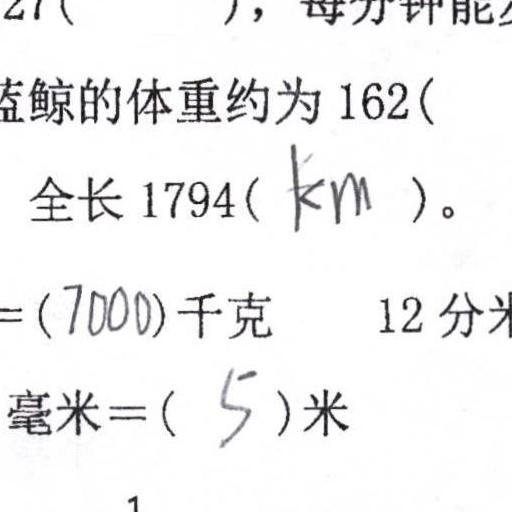ans: (284, 145, 376, 236), (58, 278, 151, 337), (211, 360, 258, 447)
